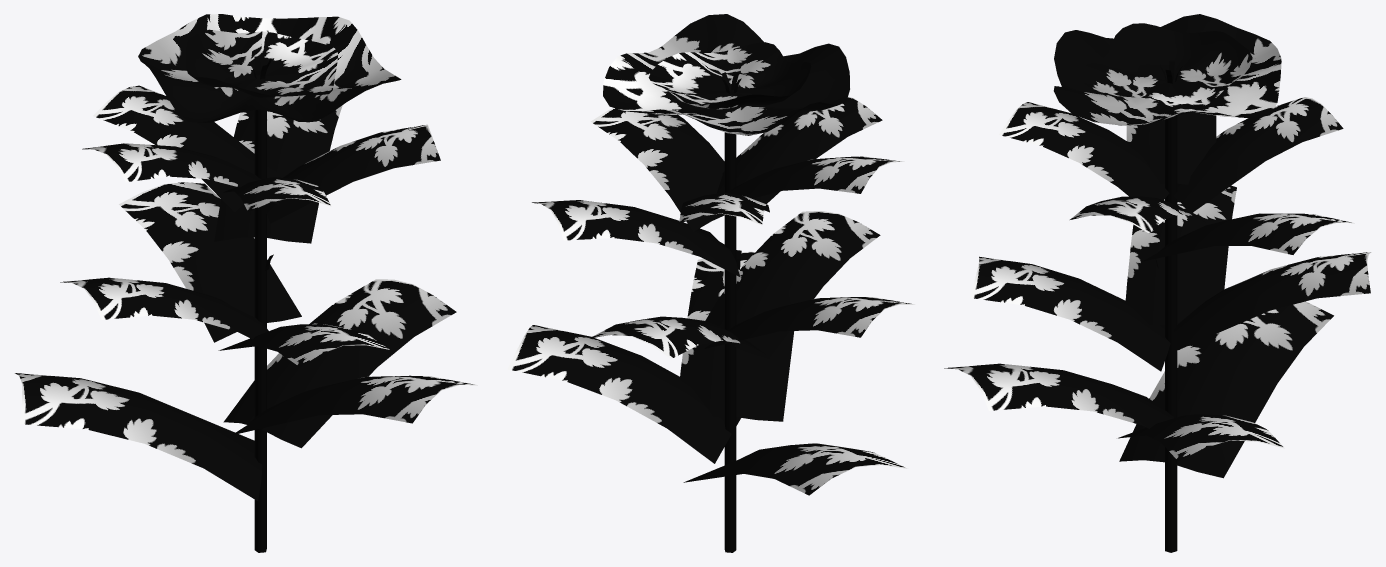
Rendered from SM_Flower_A.glb.
The picture shows the model from 3 angles, left to right: view 1: azimuth 30°, elevation 25°; view 2: azimuth 150°, elevation 25°; view 3: azimuth 270°, elevation 25°; orthographic projection. The views are drawn at different scales.
Visible parts, largest first — view 1: SM_Flower_A_LOD0; view 2: SM_Flower_A_LOD0; view 3: SM_Flower_A_LOD0.
Part boxes in pixels (x1,y1,x2,y2): SM_Flower_A_LOD0: (15, 14, 477, 552); SM_Flower_A_LOD0: (507, 14, 914, 552); SM_Flower_A_LOD0: (944, 14, 1371, 552).
Bounding box in the file's own units: 0.4773 × 0.5545 × 0.4342.
1 material, 1 textured.
